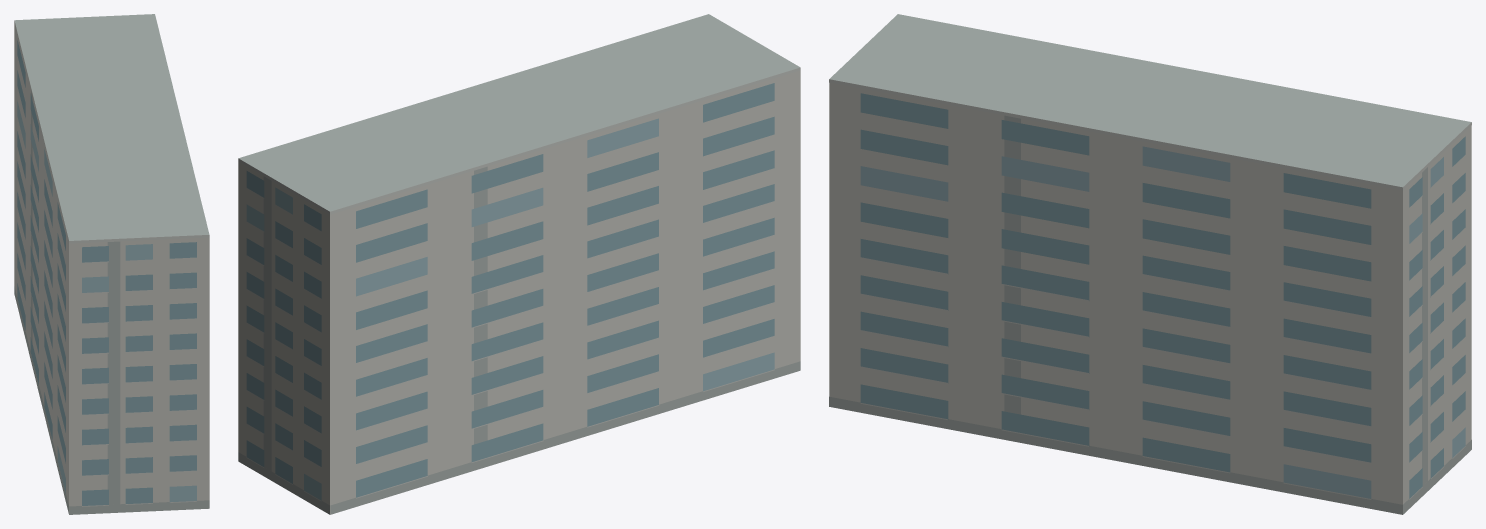
Rendered from residential-1659c3c1-f84f-4b2c-8a53-910bb1cc7f26.glb.
3 renders of one model, left to right at view 1: azimuth 30°, elevation 25°; view 2: azimuth 150°, elevation 25°; view 3: azimuth 270°, elevation 25°, orthographic. The views are drawn at different scales.
Parts seen in each view (by area): view 1: residential-1659c3c1-f84f-4b2c-8a53-910bb1cc7f26.tmp; view 2: residential-1659c3c1-f84f-4b2c-8a53-910bb1cc7f26.tmp; view 3: residential-1659c3c1-f84f-4b2c-8a53-910bb1cc7f26.tmp.
Part boxes in pixels (box(x1,y1,x2,y2)): residential-1659c3c1-f84f-4b2c-8a53-910bb1cc7f26.tmp: box(14, 14, 209, 514); residential-1659c3c1-f84f-4b2c-8a53-910bb1cc7f26.tmp: box(238, 14, 800, 514); residential-1659c3c1-f84f-4b2c-8a53-910bb1cc7f26.tmp: box(829, 14, 1471, 514).
Size of the model in its own units: 27.24 by 24 by 42.68.
